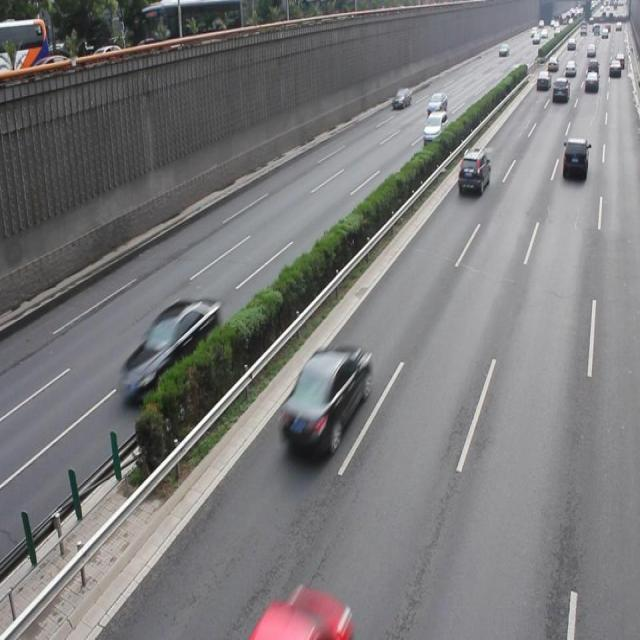car: (120, 296, 220, 403), (278, 343, 370, 453), (456, 148, 490, 196), (561, 136, 587, 182)
